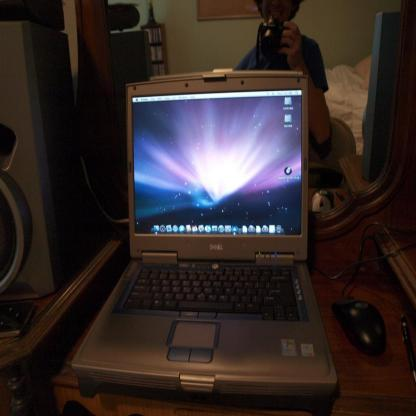board: (81, 52, 341, 398)
